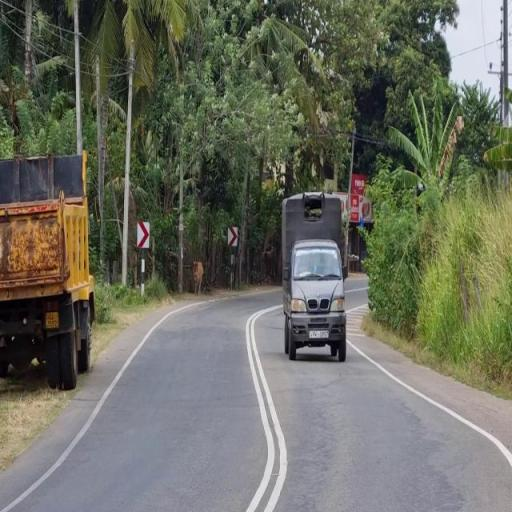double_white_line: (240, 302, 290, 510)
